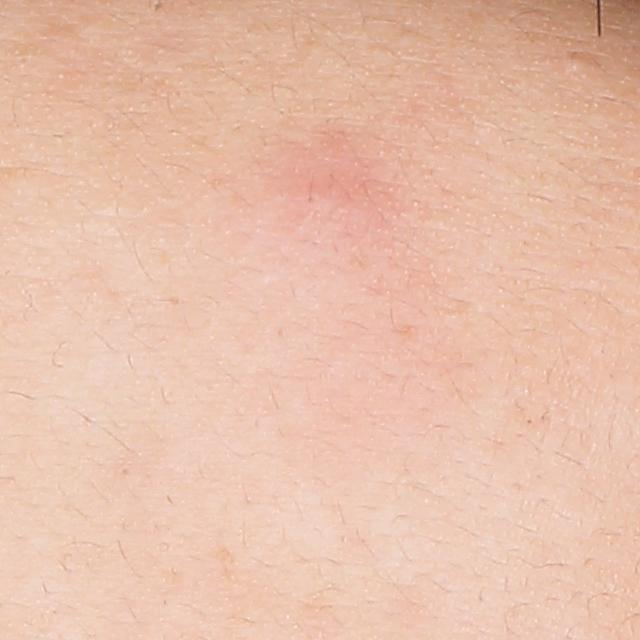comedo: (561, 51, 595, 82)
